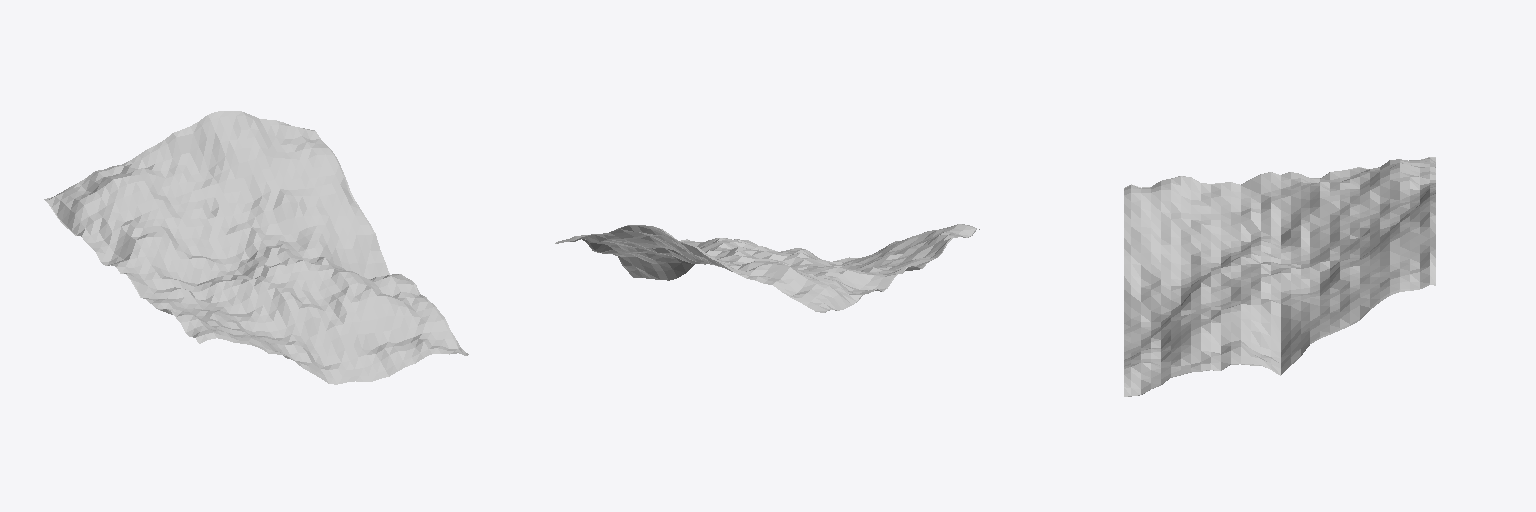
Rendered from heightmap.065.obj.
3 renders of one model, left to right at view 1: azimuth 30°, elevation 25°; view 2: azimuth 150°, elevation 25°; view 3: azimuth 270°, elevation 25°, orthographic.
Visible parts, largest first — view 1: heightmap.065_Plane.065; view 2: heightmap.065_Plane.065; view 3: heightmap.065_Plane.065.
Boxes of the visible parts, box(x1,y1,x2,y2) form: heightmap.065_Plane.065: box(44, 111, 468, 384); heightmap.065_Plane.065: box(555, 224, 979, 312); heightmap.065_Plane.065: box(1124, 157, 1435, 396).
Bounding box in the file's own units: 32 × 17.63 × 32.